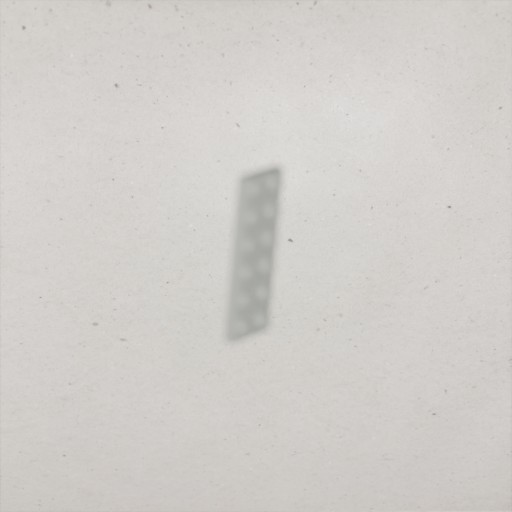lego: (223, 164, 285, 345)
